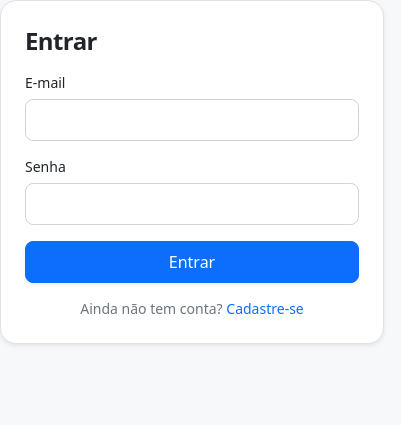
it: LoginForm › mostra erro genérico (sem dizer se foi e-mail ou senha) e não navega
This screenshot has width=401, height=425.
In the field labelled "E-mail": x=192, y=120 [25, 99, 359, 141], type "ana@example.com"
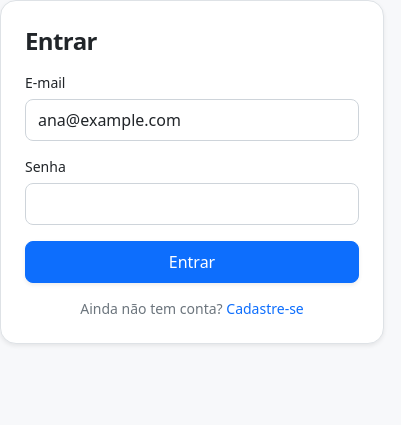
In the password field labelled "Senha": x=192, y=204 [25, 183, 359, 225], type "senha1234"
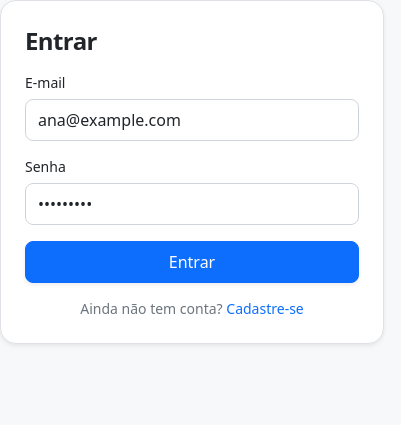
Click the button "Entrar": x=192, y=262 [25, 241, 359, 283]
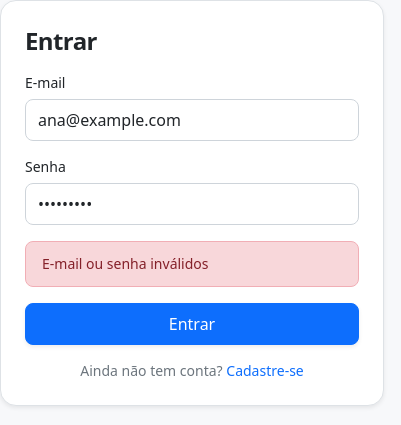
Expected: the message reads "E-mail ou senha inválidos", [42, 254, 208, 273]
